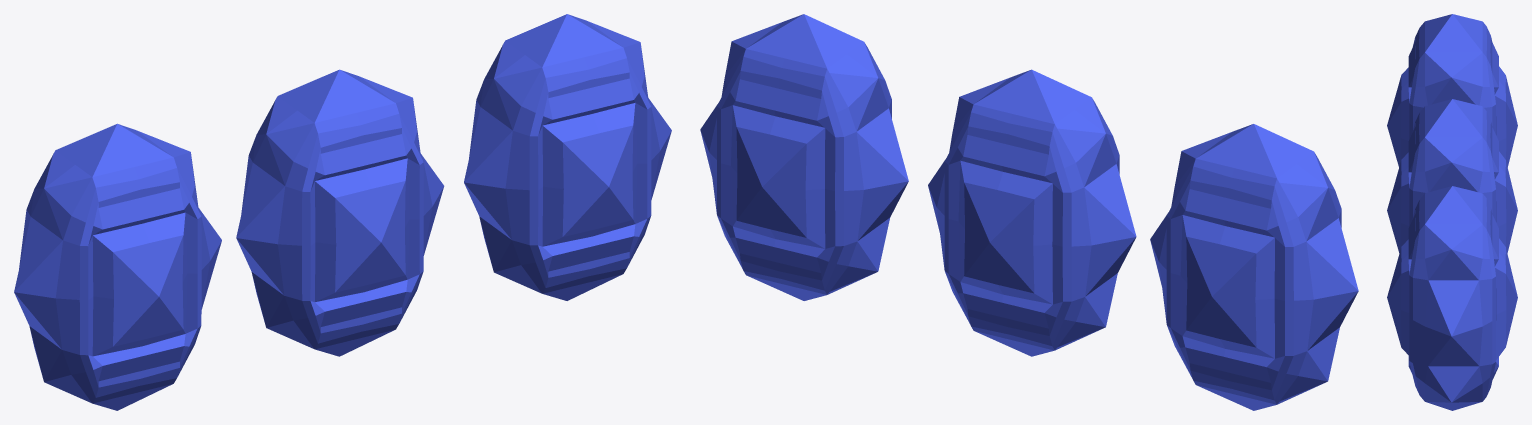
Rendered from 3 blue gems finished.fbx.
The picture shows the model from 3 angles, left to right: view 1: azimuth 30°, elevation 25°; view 2: azimuth 150°, elevation 25°; view 3: azimuth 270°, elevation 25°; orthographic projection. The views are drawn at different scales.
Visible parts, largest first — view 1: pCube10; view 2: pCube10; view 3: pCube10.
Boxes of the visible parts, <box> form: pCube10: <box>14,14,671,410</box>; pCube10: <box>700,14,1358,410</box>; pCube10: <box>1387,14,1517,410</box>.
Bounding box in the file's own units: 5.67 × 2.36 × 1.25.
Materials: 1 (1 with a texture image).
